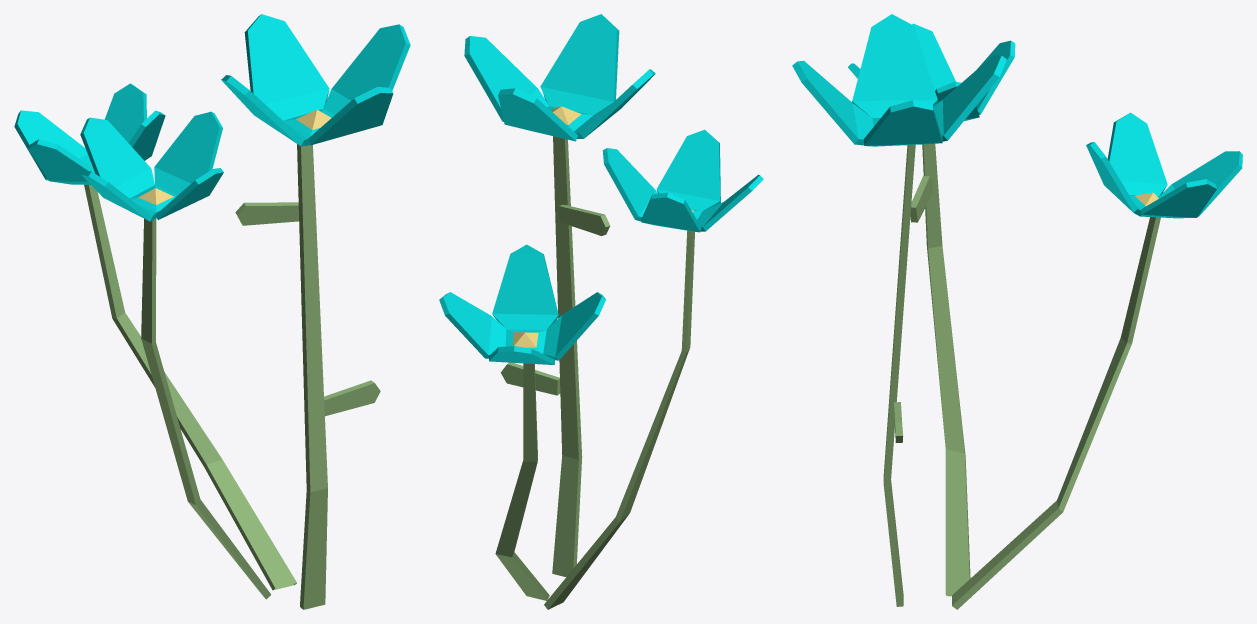
The model's file is flowers.glb.
The picture shows the model from 3 angles, left to right: view 1: azimuth 30°, elevation 25°; view 2: azimuth 150°, elevation 25°; view 3: azimuth 270°, elevation 25°; orthographic projection. The views are drawn at different scales.
Visible parts, largest first — view 1: Flowers; view 2: Flowers; view 3: Flowers.
Boxes of the visible parts, x1,y1,x2,y2 form: Flowers: (14, 14, 410, 609); Flowers: (439, 14, 763, 609); Flowers: (792, 14, 1242, 609).
Bounding box in the file's own units: 0.4895 × 0.8289 × 0.6137.
